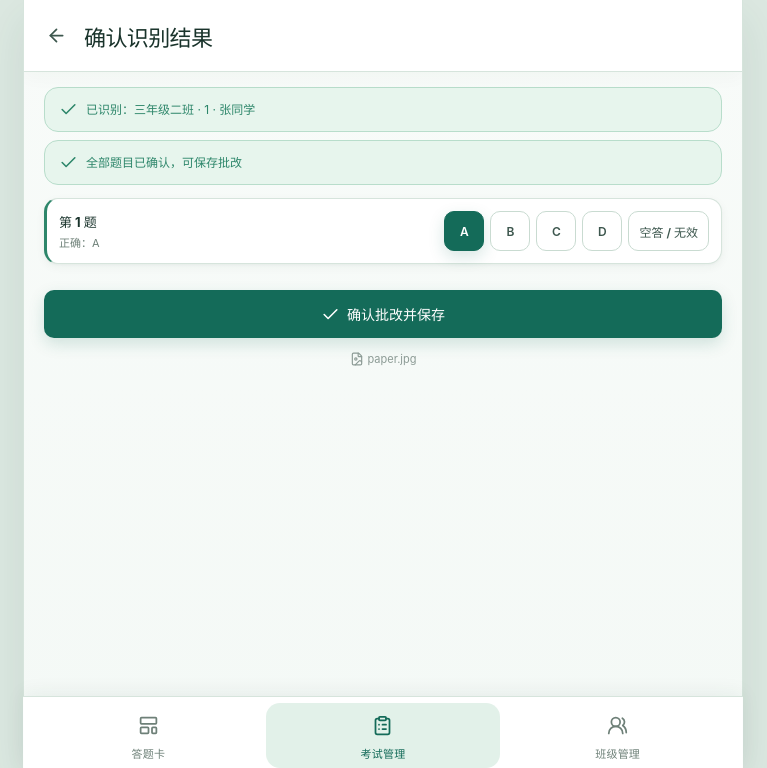
Answer Sheet Manager H5 › returns to scanning and clears the review on cancel
Click the button named "取消本次识别" at (56, 36), box [36,16,76,56]
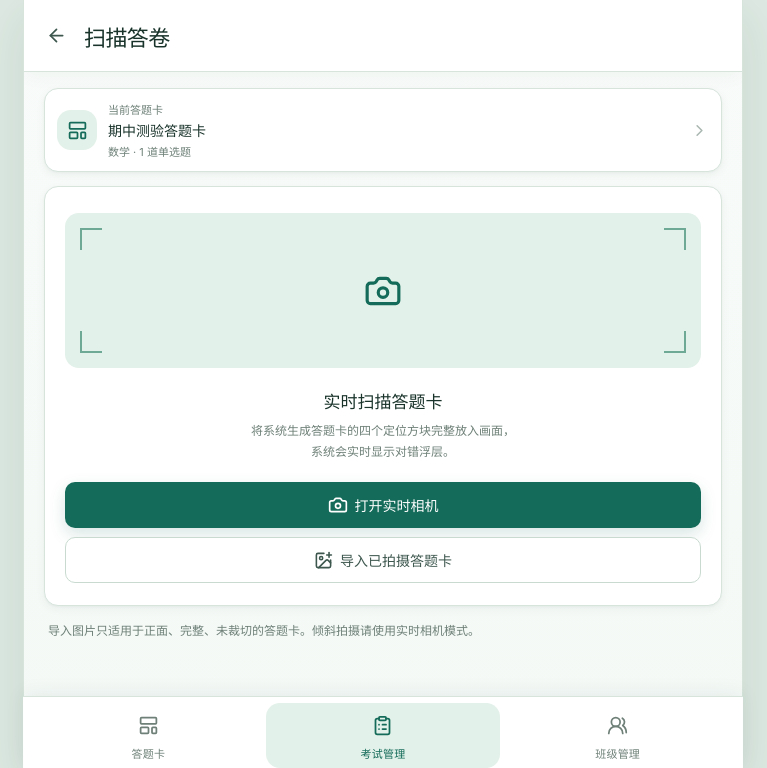
Expected: the heading "扫描答卷" is shown, [84,24,170,50]
